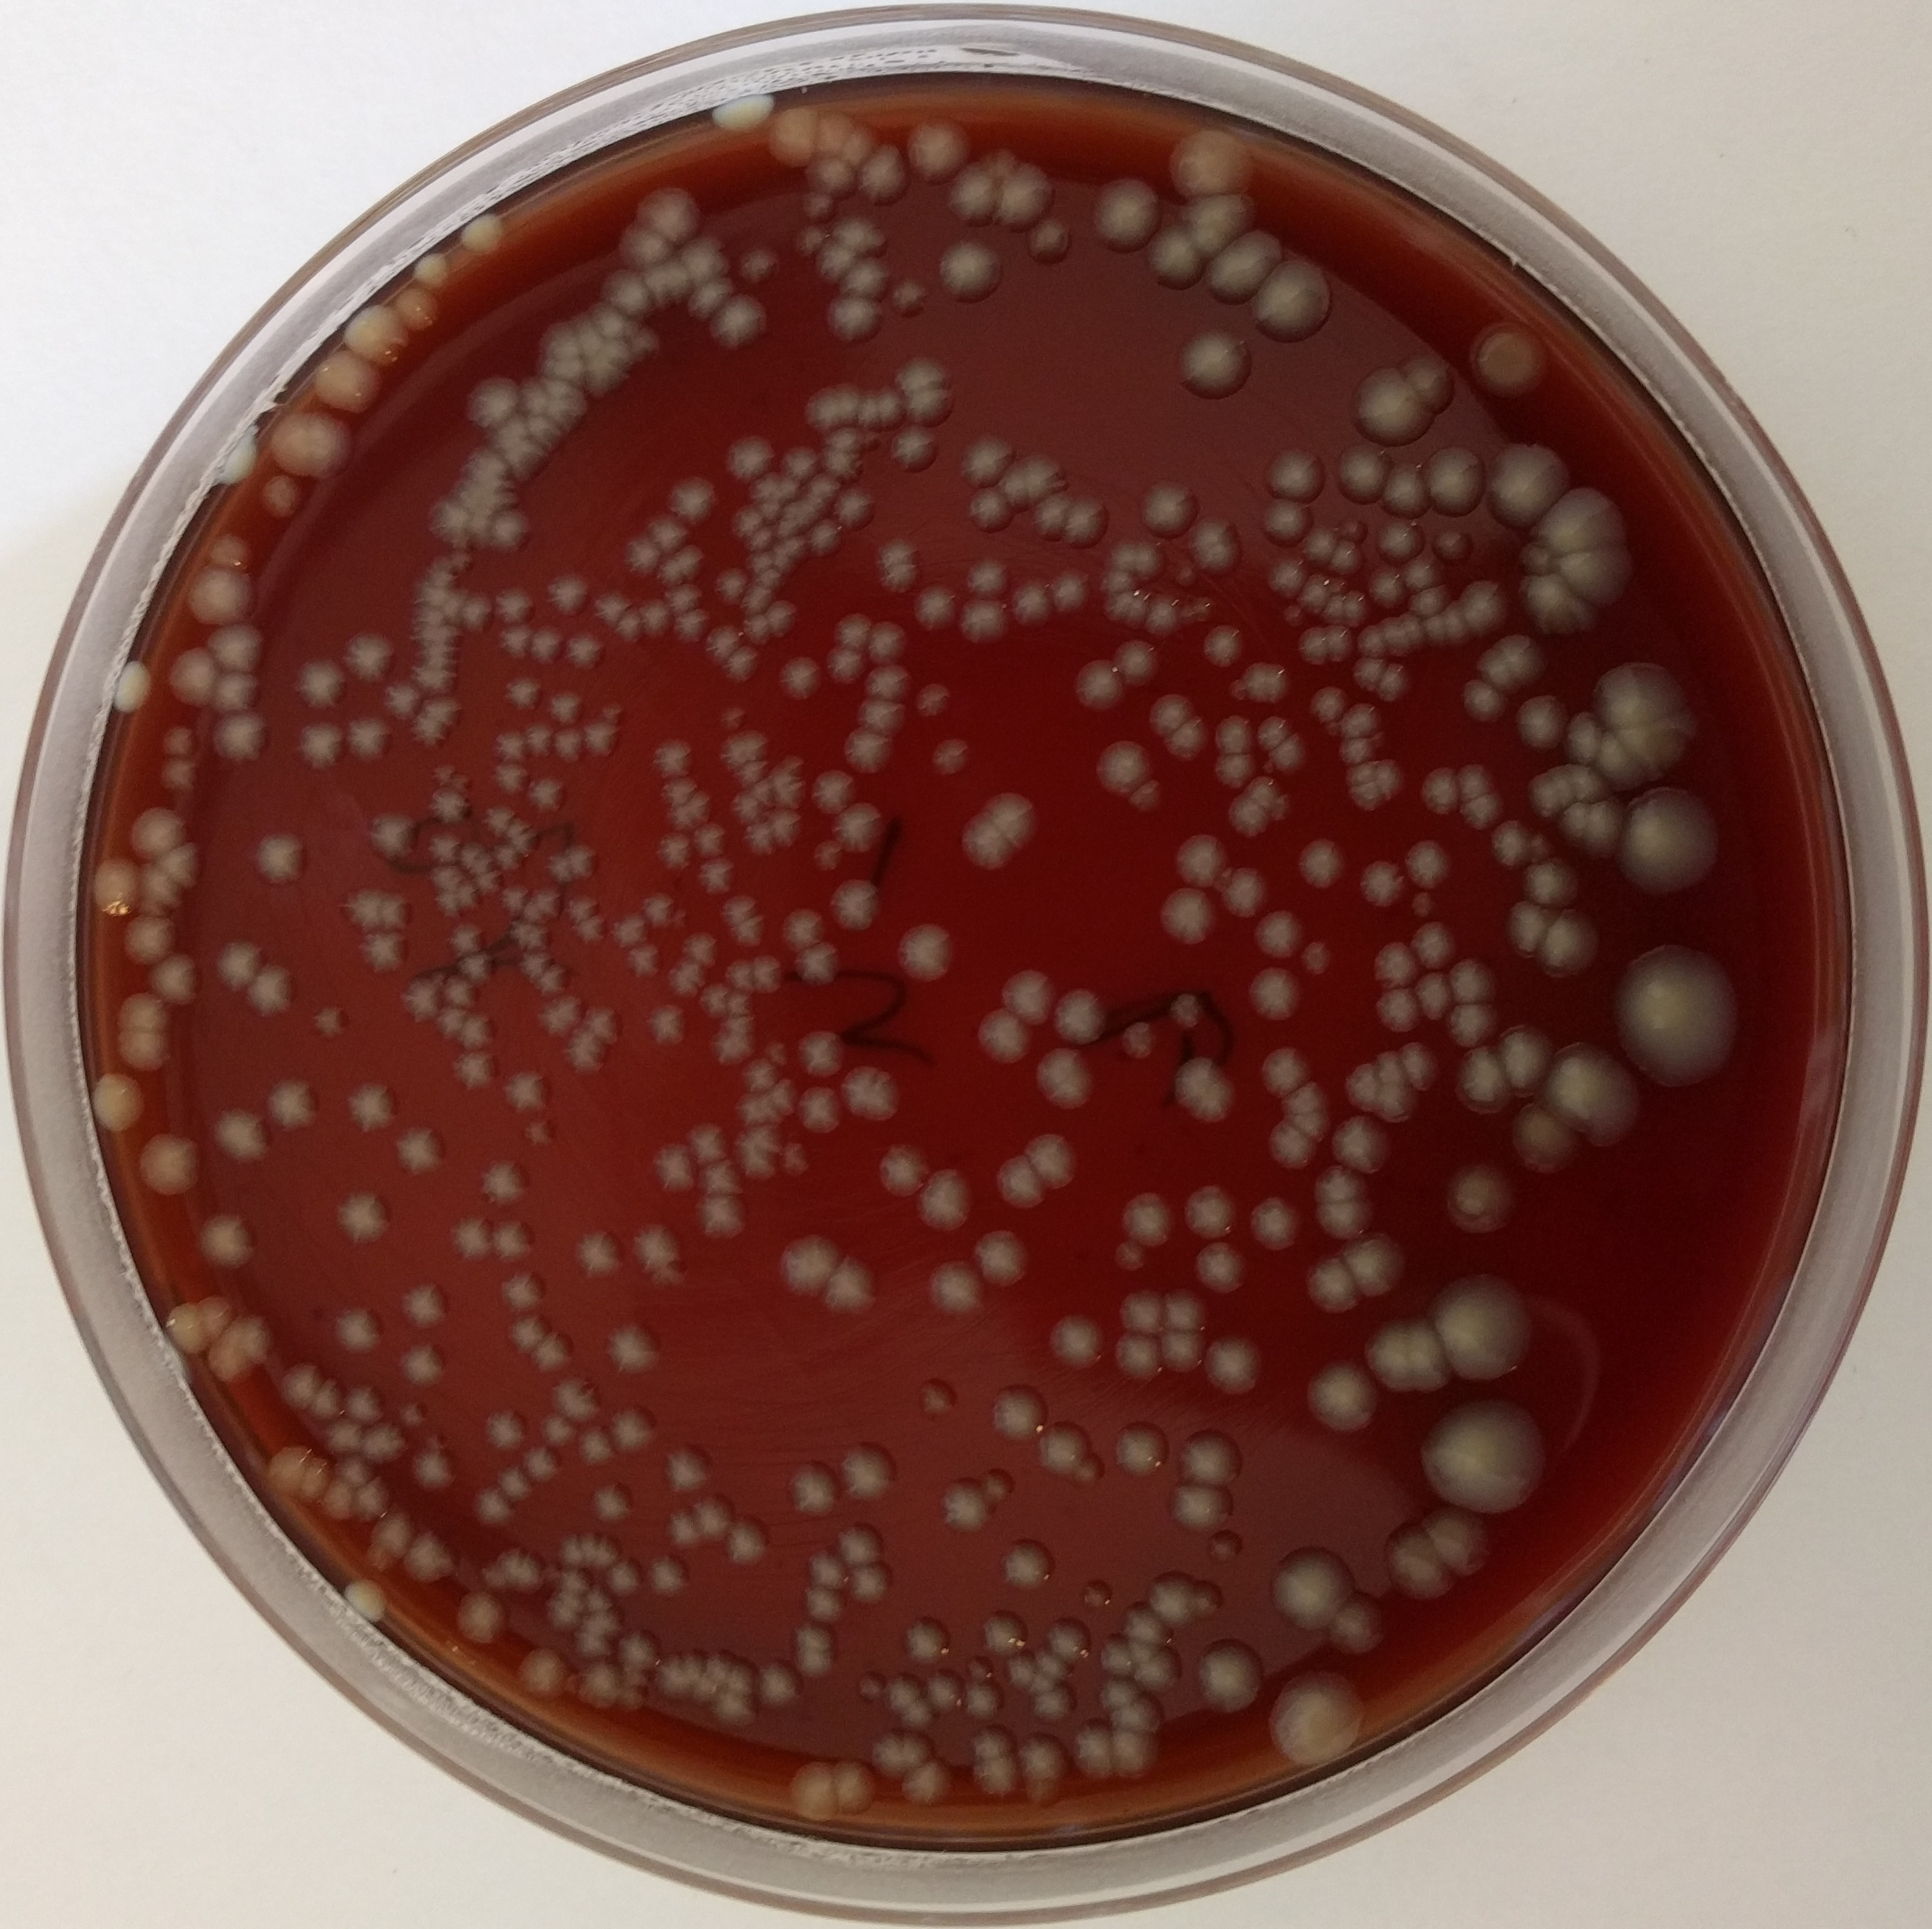sp05: (1604, 938, 1750, 1092), (1413, 1381, 1549, 1519), (1542, 1028, 1660, 1155), (1423, 1270, 1542, 1385), (1618, 781, 1725, 899), (1264, 1666, 1372, 1770), (1261, 1535, 1356, 1632), (1240, 249, 1339, 341), (1586, 650, 1699, 730), (1471, 309, 1563, 406), (1612, 700, 1711, 786), (1528, 482, 1637, 560), (1489, 429, 1575, 526), (1171, 177, 1264, 265), (1512, 565, 1609, 647), (1542, 530, 1641, 609), (1196, 226, 1291, 307), (1169, 320, 1257, 406), (1349, 362, 1438, 449), (1166, 118, 1259, 200), (1416, 1493, 1498, 1583), (270, 403, 357, 486), (1383, 1517, 1464, 1606), (1086, 171, 1164, 263), (1305, 1353, 1388, 1434), (1190, 1630, 1270, 1715), (901, 113, 982, 194), (1506, 1097, 1584, 1182), (1441, 1154, 1519, 1238), (719, 431, 793, 519), (313, 344, 390, 426), (1166, 1055, 1249, 1129), (989, 150, 1061, 235), (779, 1226, 849, 1311), (932, 235, 1014, 307), (1337, 1226, 1416, 1297), (346, 299, 420, 373), (1448, 1039, 1519, 1116), (1130, 473, 1210, 542), (1180, 512, 1256, 583), (1328, 1108, 1399, 1184), (1388, 341, 1457, 419), (191, 1207, 265, 1277), (85, 1065, 155, 1139), (131, 1129, 208, 1196), (1141, 217, 1210, 291), (1492, 1021, 1561, 1095), (1319, 1581, 1388, 1655), (634, 178, 710, 246), (1151, 881, 1227, 949), (187, 562, 263, 629), (1245, 954, 1310, 1032), (823, 1247, 887, 1327), (207, 1099, 277, 1169), (1174, 1422, 1247, 1491), (454, 1585, 523, 1657), (1423, 443, 1491, 518), (894, 913, 961, 987), (851, 140, 920, 210), (1088, 735, 1157, 806), (1042, 1304, 1111, 1374), (1166, 1477, 1238, 1544), (1337, 435, 1397, 514), (1489, 624, 1558, 692), (1531, 912, 1602, 979), (341, 1074, 411, 1141), (592, 265, 666, 329), (1358, 1314, 1420, 1390), (1023, 1129, 1091, 1196), (1201, 1332, 1270, 1399), (987, 1380, 1056, 1447), (943, 155, 1008, 226), (781, 1452, 844, 1524), (763, 101, 830, 168), (1399, 1311, 1452, 1396), (934, 1470, 996, 1542), (1459, 564, 1519, 638), (703, 286, 770, 352), (954, 424, 1023, 488), (1521, 848, 1584, 917), (1293, 827, 1356, 896), (1111, 1417, 1174, 1486), (602, 1314, 666, 1383), (1051, 980, 1113, 1051), (1031, 1042, 1093, 1113), (821, 291, 895, 350), (777, 498, 851, 556), (825, 795, 890, 860), (1118, 1187, 1185, 1251), (1033, 1415, 1097, 1482), (837, 1434, 901, 1502), (668, 230, 736, 291), (729, 1115, 791, 1184), (124, 802, 194, 862), (454, 374, 526, 433), (516, 1325, 588, 1383), (1300, 1251, 1365, 1314), (899, 1751, 964, 1814), (389, 1118, 454, 1182), (1512, 687, 1574, 754), (1441, 987, 1508, 1049), (1250, 1040, 1317, 1102), (604, 1401, 666, 1468), (835, 1060, 902, 1122), (1584, 722, 1642, 793), (984, 783, 1042, 853), (920, 1164, 977, 1237), (1264, 442, 1328, 505), (1243, 1191, 1307, 1254), (971, 1003, 1035, 1067), (1247, 899, 1309, 964), (970, 1228, 1035, 1290), (1383, 449, 1436, 525), (826, 205, 895, 263), (251, 823, 309, 892), (788, 1754, 842, 1827), (1104, 1719, 1166, 1782), (500, 1540, 562, 1604), (477, 1154, 539, 1217), (111, 984, 175, 1046), (611, 217, 678, 276), (1001, 959, 1060, 1026), (798, 143, 867, 200), (828, 1754, 883, 1825), (1180, 1184, 1241, 1245), (775, 440, 839, 500), (998, 1532, 1058, 1595), (265, 1072, 325, 1136), (927, 1261, 987, 1325), (992, 1150, 1051, 1215), (491, 1261, 556, 1320), (959, 811, 1017, 876), (138, 947, 203, 1005), (826, 254, 894, 311), (694, 1191, 761, 1247), (788, 1618, 842, 1687), (892, 350, 962, 403), (88, 850, 141, 920), (512, 1641, 572, 1703), (397, 1524, 459, 1585), (791, 1023, 853, 1083), (291, 654, 351, 715), (908, 579, 971, 638), (660, 1438, 719, 1502), (334, 1187, 392, 1251), (825, 871, 883, 934), (166, 643, 224, 707), (205, 618, 268, 677), (629, 1208, 685, 1274), (452, 207, 519, 261), (1473, 641, 1528, 708), (1189, 1240, 1256, 1295), (710, 88, 784, 138), (396, 1275, 456, 1335), (208, 707, 268, 767), (959, 590, 1017, 652), (1144, 1570, 1203, 1632), (565, 1660, 627, 1719), (336, 1569, 394, 1630), (330, 1298, 389, 1360), (244, 957, 298, 1023), (774, 650, 832, 710), (1399, 834, 1459, 892), (260, 1443, 320, 1502), (1068, 654, 1130, 710), (691, 1491, 747, 1553), (1370, 982, 1429, 1040), (809, 765, 867, 823), (124, 908, 182, 966), (1409, 915, 1469, 972), (549, 1374, 609, 1431), (970, 1749, 1031, 1804), (1558, 703, 1611, 767), (494, 1307, 558, 1360), (1309, 1192, 1385, 1237), (1257, 489, 1314, 548), (846, 724, 904, 781), (1443, 950, 1501, 1007), (1153, 1323, 1210, 1381), (636, 265, 696, 320), (1355, 857, 1409, 917), (1173, 828, 1227, 889), (830, 1517, 890, 1572), (346, 1470, 401, 1530), (502, 1065, 556, 1125), (874, 1136, 929, 1196), (150, 839, 212, 892), (1070, 1717, 1120, 1782), (895, 383, 962, 431), (214, 424, 261, 491), (1111, 634, 1167, 691), (646, 1141, 703, 1198), (793, 938, 849, 995), (1019, 447, 1074, 505), (1157, 712, 1211, 770), (899, 1611, 957, 1666), (293, 714, 348, 772), (256, 470, 314, 525), (1141, 685, 1201, 738), (721, 1512, 781, 1565), (1559, 747, 1611, 809), (978, 1602, 1030, 1664), (862, 1726, 913, 1788), (449, 1207, 500, 1268), (445, 1048, 507, 1099), (113, 1023, 175, 1074), (1503, 894, 1551, 959), (1374, 511, 1429, 567), (1007, 574, 1063, 629), (1222, 788, 1279, 843), (1264, 1120, 1321, 1175), (223, 1305, 277, 1362), (1024, 486, 1077, 544), (1044, 564, 1097, 622), (1459, 673, 1512, 731), (392, 1337, 450, 1390), (572, 1226, 630, 1279), (1369, 1078, 1429, 1129), (583, 1479, 643, 1530), (1118, 1600, 1180, 1650), (1309, 1161, 1374, 1207), (1015, 1729, 1070, 1784), (860, 655, 917, 708), (1554, 779, 1596, 850), (1118, 1288, 1171, 1344), (411, 1441, 464, 1498), (205, 1332, 258, 1388), (489, 1217, 542, 1274), (537, 989, 593, 1042), (341, 625, 394, 682), (1023, 214, 1081, 265), (834, 122, 892, 173), (1377, 608, 1429, 666), (1399, 1037, 1450, 1095), (918, 1662, 970, 1721), (159, 1298, 210, 1357), (749, 1657, 809, 1706), (194, 1291, 244, 1351), (565, 1021, 615, 1081), (1113, 1328, 1166, 1383), (479, 1401, 532, 1456), (367, 1500, 420, 1555), (355, 927, 408, 982), (643, 1549, 699, 1600), (214, 936, 265, 993), (959, 482, 1017, 532), (1065, 495, 1114, 553), (355, 1418, 413, 1468), (713, 724, 774, 772), (655, 1646, 698, 1713), (1109, 1691, 1171, 1736), (346, 708, 399, 761), (486, 502, 539, 555), (1141, 586, 1192, 641), (600, 1553, 652, 1607), (643, 995, 694, 1049), (611, 1623, 668, 1673), (275, 1358, 325, 1415), (1483, 814, 1531, 873), (669, 466, 717, 525), (731, 1083, 789, 1131), (809, 101, 860, 154), (887, 426, 940, 477), (1259, 551, 1310, 604), (1042, 1611, 1095, 1662), (210, 662, 261, 715), (420, 491, 472, 544), (1199, 618, 1249, 673), (1448, 758, 1503, 807), (1220, 860, 1268, 917), (1372, 934, 1420, 991), (366, 811, 422, 859), (851, 692, 911, 737), (809, 233, 862, 283), (825, 608, 878, 657), (795, 1083, 844, 1136), (710, 1021, 759, 1074), (378, 673, 427, 726), (865, 613, 913, 668), (1459, 790, 1513, 837), (844, 1562, 899, 1609), (710, 1682, 765, 1729), (394, 284, 441, 339), (913, 1374, 970, 1420), (306, 1371, 350, 1429), (1413, 964, 1455, 1025), (885, 272, 934, 323), (472, 1482, 523, 1532), (696, 1155, 747, 1205), (493, 581, 544, 631), (694, 855, 747, 903), (991, 466, 1037, 521), (710, 564, 756, 618), (321, 1413, 367, 1468), (645, 731, 699, 777), (1330, 698, 1386, 742), (1416, 767, 1460, 823), (111, 650, 148, 717), (1091, 1668, 1150, 1710), (830, 482, 879, 532), (1429, 523, 1478, 572), (1162, 1286, 1213, 1334), (1137, 1648, 1189, 1696), (343, 1380, 390, 1431), (660, 1503, 708, 1555), (616, 530, 664, 581), (411, 246, 459, 297), (802, 1585, 855, 1630), (970, 1719, 1023, 1765), (519, 1434, 565, 1487), (666, 957, 712, 1010), (733, 242, 788, 286), (825, 639, 872, 689), (804, 1547, 853, 1595), (925, 731, 977, 777), (793, 383, 839, 435), (1113, 1016, 1164, 1062), (879, 1666, 931, 1712), (546, 569, 592, 620), (682, 281, 735, 325), (867, 380, 911, 433), (1298, 518, 1340, 572), (556, 1532, 592, 1597), (1347, 647, 1388, 703), (759, 597, 807, 645), (577, 998, 625, 1046), (1324, 532, 1374, 578), (1130, 537, 1176, 586), (523, 881, 569, 931), (207, 528, 256, 574), (962, 556, 1015, 599), (1524, 763, 1559, 827), (1296, 931, 1339, 984), (768, 754, 811, 807), (1374, 654, 1415, 708), (1317, 615, 1358, 669), (1277, 1109, 1333, 1148), (297, 1454, 336, 1510), (1211, 708, 1259, 754), (717, 639, 765, 685), (1164, 986, 1211, 1032), (1031, 1685, 1079, 1731), (622, 940, 669, 986), (1305, 678, 1355, 722), (775, 903, 825, 947), (309, 1002, 358, 1046), (523, 774, 572, 818), (1264, 730, 1307, 781), (1344, 1062, 1386, 1113), (691, 816, 733, 867), (565, 625, 608, 677), (512, 438, 555, 489), (544, 380, 597, 420), (825, 371, 864, 426), (683, 1118, 729, 1164), (457, 1010, 503, 1056), (157, 754, 203, 800), (539, 318, 585, 364), (562, 309, 608, 355), (1400, 548, 1448, 592), (1406, 578, 1455, 620), (396, 973, 438, 1023), (1275, 1079, 1328, 1118), (321, 1473, 360, 1526), (639, 590, 678, 643), (1411, 595, 1448, 650), (1349, 617, 1393, 662), (1293, 620, 1337, 666), (1120, 770, 1166, 814), (408, 707, 452, 753), (493, 1457, 535, 1505), (717, 890, 765, 933), (339, 887, 381, 934), (766, 798, 809, 846), (551, 722, 593, 770), (703, 617, 745, 664), (669, 604, 712, 652), (1438, 595, 1471, 655), (1367, 564, 1407, 613), (894, 1722, 934, 1772), (540, 1408, 581, 1457), (330, 1452, 380, 1493), (793, 184, 837, 228), (1517, 535, 1561, 579), (962, 1678, 1007, 1722), (576, 1426, 620, 1470), (668, 790, 713, 832), (645, 509, 691, 551), (1213, 749, 1261, 790), (818, 442, 865, 482), (1203, 1521, 1250, 1562), (722, 1659, 770, 1699), (655, 828, 696, 876), (597, 329, 638, 376), (975, 145, 1024, 184), (1102, 533, 1141, 583), (775, 1134, 814, 1184), (505, 919, 555, 957), (445, 480, 502, 514), (784, 217, 828, 260), (1339, 581, 1374, 634), (736, 1053, 781, 1095), (728, 754, 772, 797), (1097, 1630, 1137, 1676), (1023, 1768, 1068, 1809), (653, 768, 699, 809), (500, 673, 546, 714), (427, 788, 475, 827), (1333, 733, 1388, 767), (1189, 1570, 1226, 1620), (547, 684, 585, 733), (876, 560, 927, 595), (1261, 655, 1296, 707), (848, 1662, 890, 1705), (911, 680, 955, 721), (1243, 770, 1284, 814), (456, 952, 500, 993), (373, 889, 413, 933), (491, 756, 535, 797), (579, 719, 620, 763), (523, 410, 563, 454), (699, 1646, 745, 1685), (721, 952, 759, 998), (486, 424, 525, 470), (1293, 564, 1326, 617), (874, 535, 922, 572), (772, 1072, 809, 1120), (749, 949, 786, 996), (420, 692, 468, 730), (1114, 1237, 1155, 1279), (1077, 1574, 1118, 1616), (717, 1002, 759, 1042), (608, 912, 650, 952), (563, 843, 604, 885), (466, 511, 500, 562), (1370, 1048, 1415, 1086), (585, 357, 622, 403), (851, 380, 881, 436), (463, 590, 496, 639), (894, 1692, 934, 1733), (680, 927, 721, 968), (449, 922, 489, 963), (1344, 777, 1386, 816), (1065, 1450, 1107, 1489), (721, 980, 763, 1019), (533, 957, 572, 1000), (728, 915, 770, 954), (500, 816, 539, 859), (978, 1463, 1015, 1507), (641, 889, 678, 933), (595, 1528, 627, 1579), (434, 1000, 470, 1046), (825, 420, 872, 454), (161, 722, 201, 761), (629, 325, 668, 366), (1031, 1641, 1074, 1678), (1001, 1645, 1038, 1687), (742, 816, 779, 859), (424, 828, 461, 871), (528, 625, 565, 668), (613, 599, 645, 648), (1372, 756, 1406, 802), (500, 617, 533, 662), (655, 549, 694, 588), (517, 945, 558, 982), (729, 790, 766, 830), (450, 876, 486, 919), (406, 578, 459, 606), (1241, 655, 1272, 705), (477, 1549, 509, 1595), (676, 541, 708, 586), (740, 521, 779, 558), (441, 973, 480, 1010), (544, 846, 581, 885), (1256, 712, 1291, 753), (426, 860, 466, 896), (1339, 754, 1381, 788), (521, 719, 555, 761), (512, 369, 546, 412), (498, 878, 528, 924), (539, 353, 585, 383), (1102, 588, 1139, 625), (715, 701, 752, 738), (726, 505, 763, 542), (479, 802, 516, 839), (1189, 592, 1224, 631), (770, 532, 809, 567), (689, 1675, 729, 1708), (595, 586, 629, 627), (577, 1526, 604, 1577), (464, 447, 512, 475), (1100, 567, 1144, 597), (966, 1652, 1001, 1689), (763, 1035, 800, 1070), (565, 889, 600, 926), (698, 980, 731, 1019), (491, 724, 523, 765), (136, 894, 177, 926), (539, 1604, 581, 1634), (1407, 887, 1443, 922), (572, 913, 608, 949), (812, 837, 846, 874), (440, 588, 470, 629), (408, 669, 461, 692), (570, 1630, 613, 1659), (740, 613, 775, 647), (523, 1113, 556, 1148), (431, 887, 464, 922), (1333, 512, 1370, 544), (747, 774, 779, 811), (454, 839, 486, 876), (671, 578, 703, 615), (457, 461, 505, 486), (1321, 585, 1347, 629), (742, 544, 775, 578), (1169, 558, 1201, 594), (581, 1581, 613, 1616), (410, 622, 463, 643), (740, 581, 770, 617), (616, 1682, 646, 1717), (491, 837, 521, 873), (411, 604, 457, 627), (583, 1611, 629, 1634), (551, 1590, 588, 1618), (1280, 590, 1307, 629), (443, 768, 482, 795), (1266, 790, 1296, 823), (410, 654, 459, 673), (759, 558, 789, 590), (1173, 597, 1201, 629), (475, 871, 507, 899), (364, 1539, 390, 1572), (1123, 594, 1146, 631), (1524, 834, 1552, 864), (1208, 862, 1234, 894), (399, 1403, 433, 1427), (622, 1666, 653, 1691), (410, 641, 464, 655), (1226, 673, 1250, 703), (798, 491, 828, 516), (683, 1648, 708, 1678), (427, 763, 454, 788), (450, 551, 477, 576), (424, 1427, 452, 1450), (600, 700, 623, 726), (424, 555, 454, 571), (450, 535, 472, 556), (498, 493, 525, 509), (1321, 717, 1339, 740), (424, 574, 463, 581)
